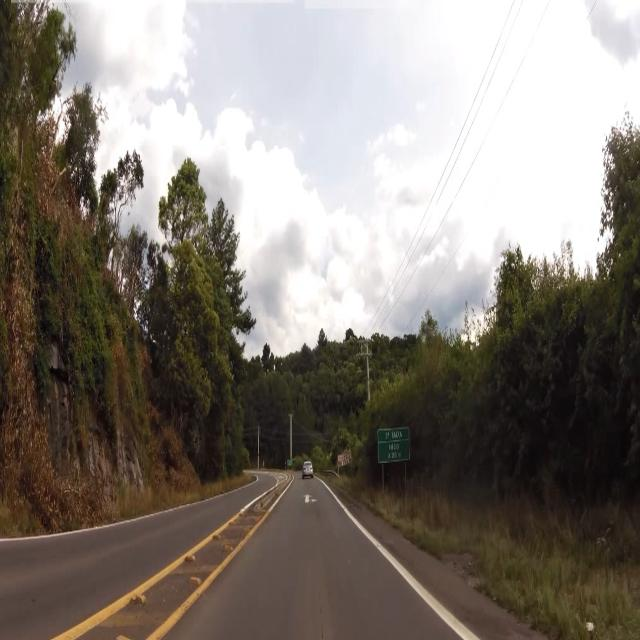I-4: (378, 422, 414, 462)
